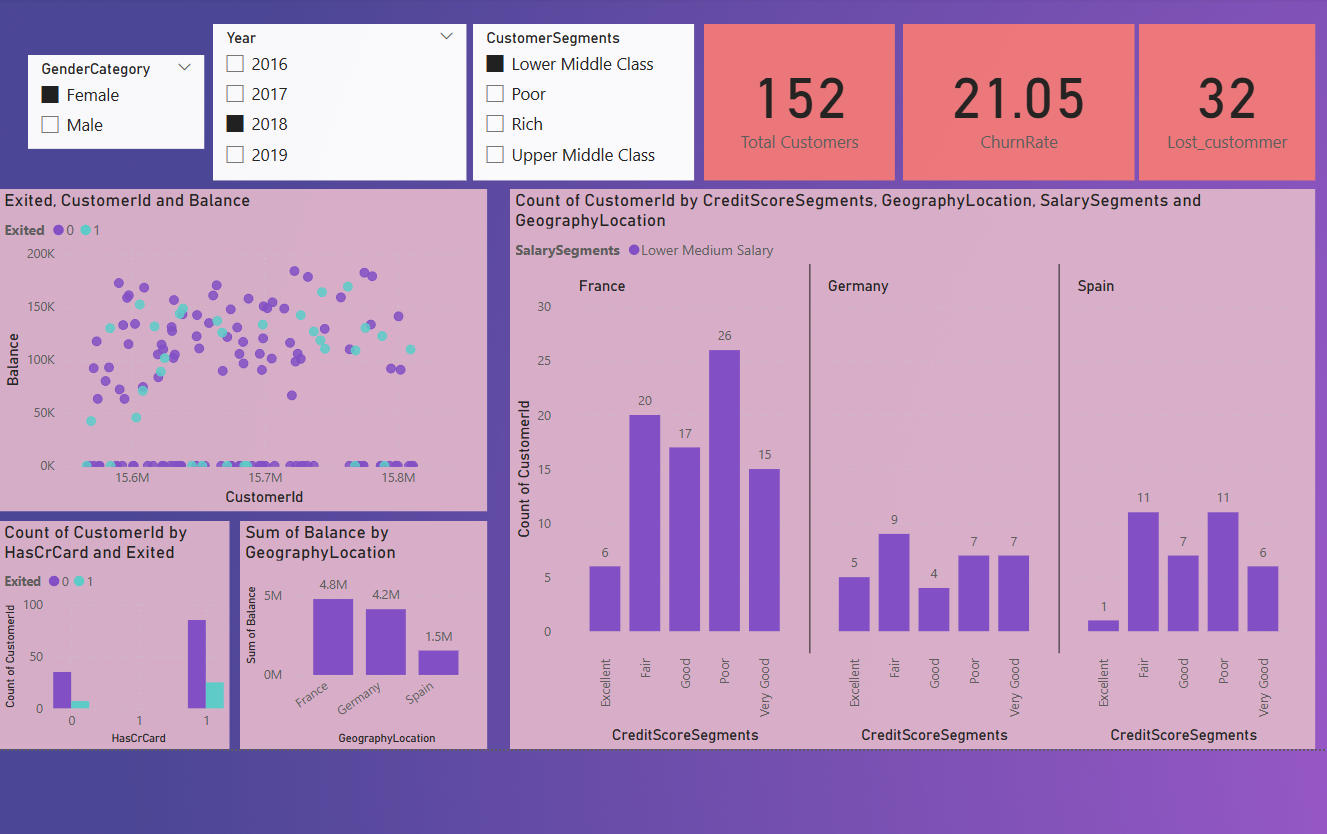

This screenshot's page, from the dashboard's own definition file:
{"tool":"powerbi","page":{"name":"Dashboard 2","canvas":[1280,720],"ordinal":1},"visuals":[{"type":"slicer","fields":{"Values":["Gender.GenderCategory"]},"box":[34.5,54.7,168.7,90.1],"z":0},{"type":"slicer","fields":{"Values":["CustomerInfo.Bank DOJ.Variation.Date Hierarchy.Year"]},"box":[211.9,24.9,242.6,149.6],"z":1000},{"type":"card","fields":{"Values":["ActiveCustomer.Total Customers"]},"box":[682.7,24.9,183.1,149.6],"z":2000},{"type":"card","fields":{"Values":["ActiveCustomer.ChurnRate"]},"box":[873.5,24.9,222.4,149.6],"z":3000},{"type":"card","fields":{"Values":["ActiveCustomer.Lost_custommer"]},"box":[1099.7,24.9,168.7,149.6],"z":4000},{"type":"scatterChart","fields":{"Series":["Bank_Churn.Exited"],"Y":["Bank_Churn.Balance"],"X":["Bank_Churn.CustomerId"]},"box":[6.7,183.1,467.9,308.7],"z":5000},{"type":"columnChart","fields":{"Y":["CountNonNull(Bank_Churn.CustomerId)"],"Category":["Bank_Churn.CreditScoreSegments","Geography.GeographyLocation"],"Series":["CustomerInfo.SalarySegments"],"Rows":["Geography.GeographyLocation"]},"box":[496.7,183.1,771.8,536.9],"z":6000},{"type":"slicer","fields":{"Values":["CustomerInfo.CustomerSegments"]},"box":[461.2,24.9,211.9,149.6],"z":7000},{"type":"clusteredColumnChart","fields":{"Y":["Sum(Bank_Churn.Balance)"],"Category":["Geography.GeographyLocation"]},"box":[237.8,501.5,236.8,218.6],"z":8000},{"type":"clusteredColumnChart","fields":{"Category":["Bank_Churn.HasCrCard"],"Series":["Bank_Churn.Exited"],"Y":["CountNonNull(Bank_Churn.CustomerId)"]},"box":[6.7,501.5,220.5,218.6],"z":9000}]}

Visuals, with their boxes on the page's 1280x720 design canvas (x1, y1, x2, y2). These are canvas units, not pixel positions in the 1327x834 screenshot, which may show the page scaled, cropped or inside an application window:
slicer - Gender.GenderCategory: [34,55,203,145]
slicer - CustomerInfo.Bank DOJ.Variation.Date Hierarchy.Year: [212,25,454,174]
card - ActiveCustomer.Total Customers: [683,25,866,174]
card - ActiveCustomer.ChurnRate: [874,25,1096,174]
card - ActiveCustomer.Lost_custommer: [1100,25,1268,174]
scatterChart - Bank_Churn.Exited x Bank_Churn.Balance: [7,183,475,492]
columnChart - CountNonNull(Bank_Churn.CustomerId) x Bank_Churn.CreditScoreSegments: [497,183,1268,720]
slicer - CustomerInfo.CustomerSegments: [461,25,673,174]
clusteredColumnChart - Sum(Bank_Churn.Balance) x Geography.GeographyLocation: [238,502,475,720]
clusteredColumnChart - Bank_Churn.HasCrCard x Bank_Churn.Exited: [7,502,227,720]
